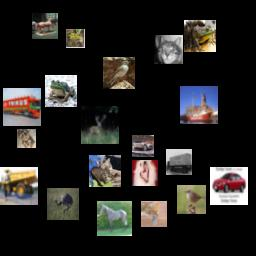automobile: (210, 167, 248, 205), (132, 135, 154, 157)
bird: (103, 57, 135, 89), (47, 188, 79, 220), (177, 185, 206, 214)
cat: (89, 155, 121, 187), (154, 35, 183, 64), (141, 201, 167, 227)
deer: (81, 106, 119, 144)
dog: (132, 160, 158, 186), (17, 129, 36, 148)
frog: (184, 20, 216, 52), (45, 75, 77, 107), (66, 29, 85, 48)
ship: (180, 86, 218, 124)
truck: (0, 167, 38, 205), (3, 88, 41, 126), (166, 149, 192, 175)
